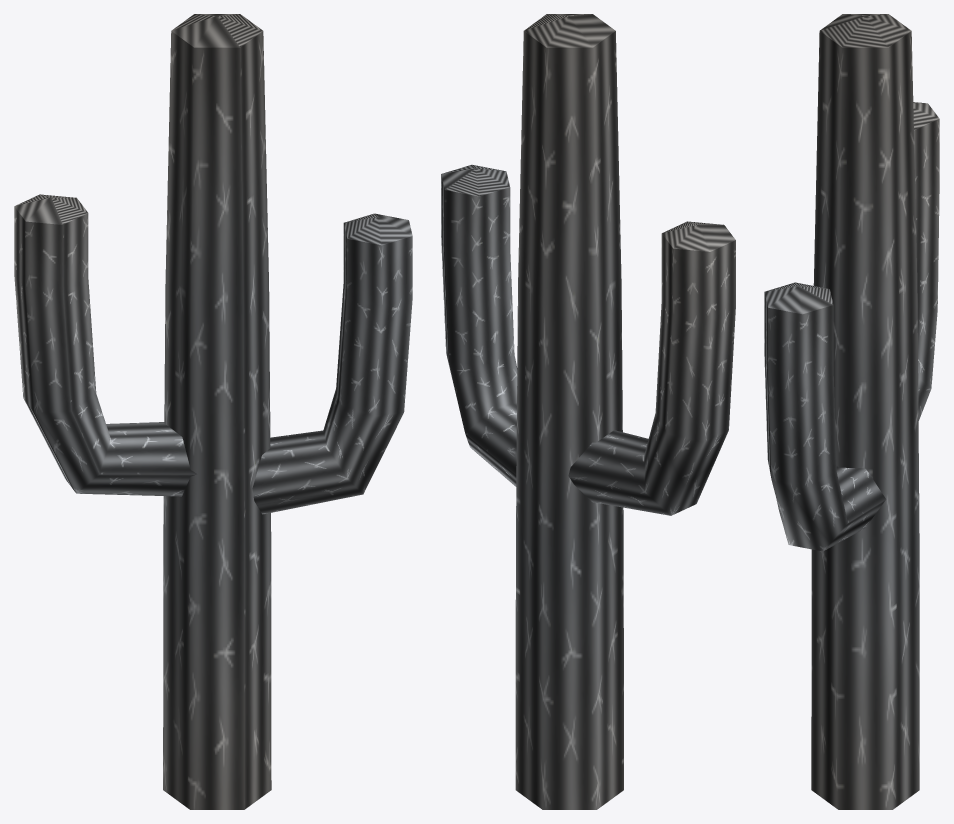
Rendered from cactus_col_l2.gltf.
3 renders of one model, left to right at view 1: azimuth 30°, elevation 25°; view 2: azimuth 150°, elevation 25°; view 3: azimuth 270°, elevation 25°, orthographic.
Visible parts, largest first — view 1: cactus_col_l2; view 2: cactus_col_l2; view 3: cactus_col_l2.
Boxes of the visible parts, left/top/right/bottom form: cactus_col_l2: left=14, top=14, right=412, bottom=809; cactus_col_l2: left=441, top=14, right=735, bottom=809; cactus_col_l2: left=764, top=14, right=939, bottom=809.
Bounding box in the file's own units: 1.59 × 3.47 × 0.7112.
Materials: 1 (1 with a texture image).
